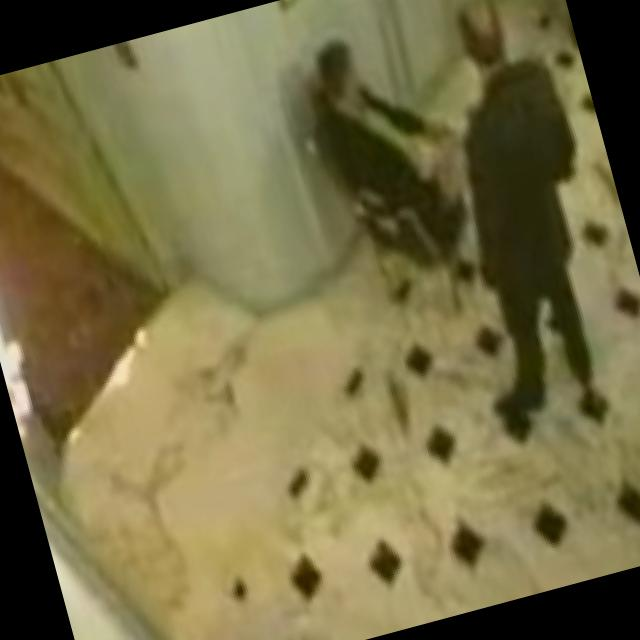person: (389, 0, 640, 441), (286, 15, 486, 308)
